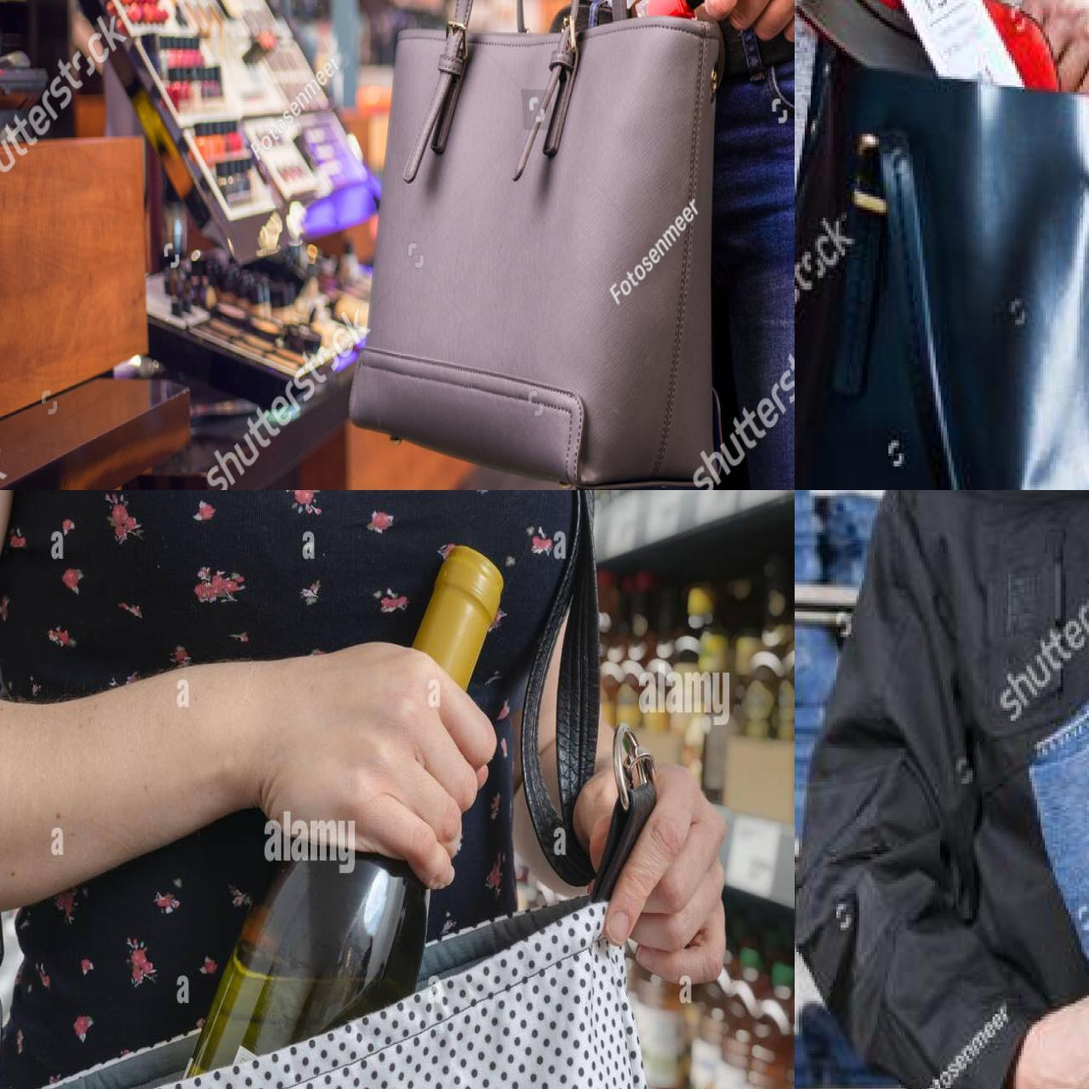shoplifting: (0, 496, 794, 1089)
